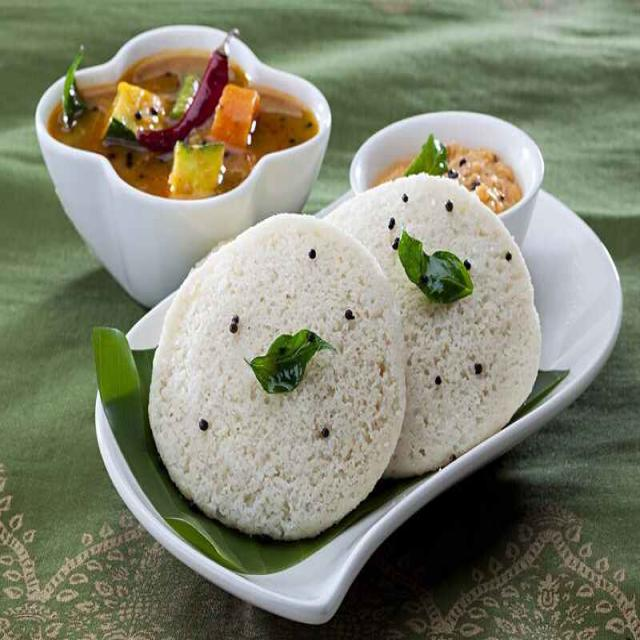idli: (161, 217, 409, 535), (303, 172, 541, 485)
